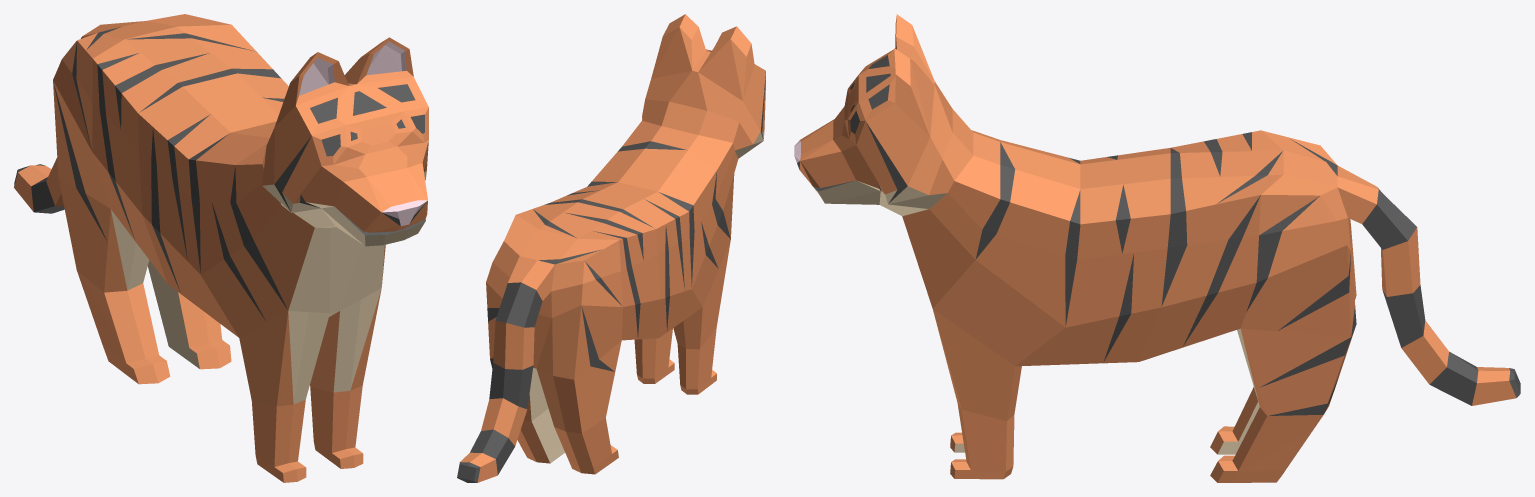
Rendered from Tiger (1).glb.
3 views of the same model, side by side, from view 1: azimuth 30°, elevation 25°; view 2: azimuth 150°, elevation 25°; view 3: azimuth 270°, elevation 25° (orthographic). The views are drawn at different scales.
Visible parts, largest first — view 1: Tiger_Lepord_01_Cube.000; view 2: Tiger_Lepord_01_Cube.000; view 3: Tiger_Lepord_01_Cube.000.
Part boxes in pixels (<box>): Tiger_Lepord_01_Cube.000: <box>14,14,428,482</box>; Tiger_Lepord_01_Cube.000: <box>457,14,765,482</box>; Tiger_Lepord_01_Cube.000: <box>794,14,1520,482</box>.
Size of the model in its own units: 3.44 by 9.98 by 15.26.
